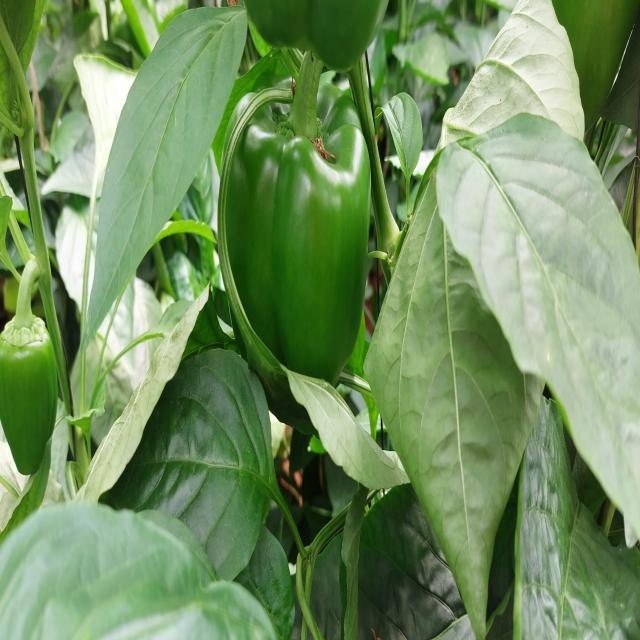Green--Not-ready-to-harvest: (213, 86, 386, 424), (515, 9, 626, 155), (2, 310, 62, 465)
